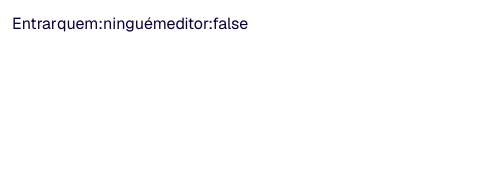
Scenario: AuthProvider › returns the login action's refusal
Click the button "Entrar". click: (34, 24)
box: [12,12,57,36]
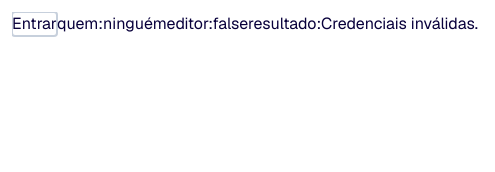
Result: the text "resultado:Credenciais inválidas." is shown at [248,13,478,34]
